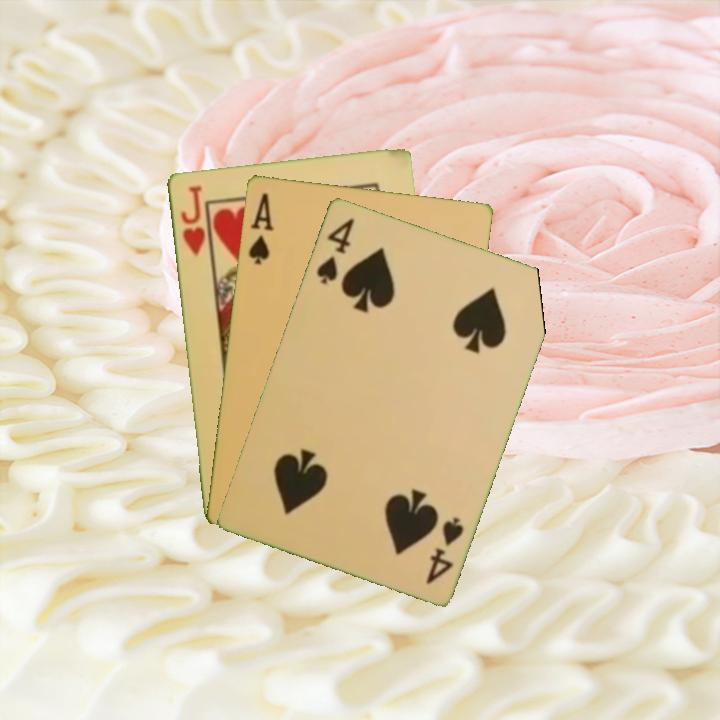4s: (312, 213, 357, 287), (422, 512, 466, 587)
As: (244, 189, 276, 267)
Jh: (176, 181, 208, 258)
